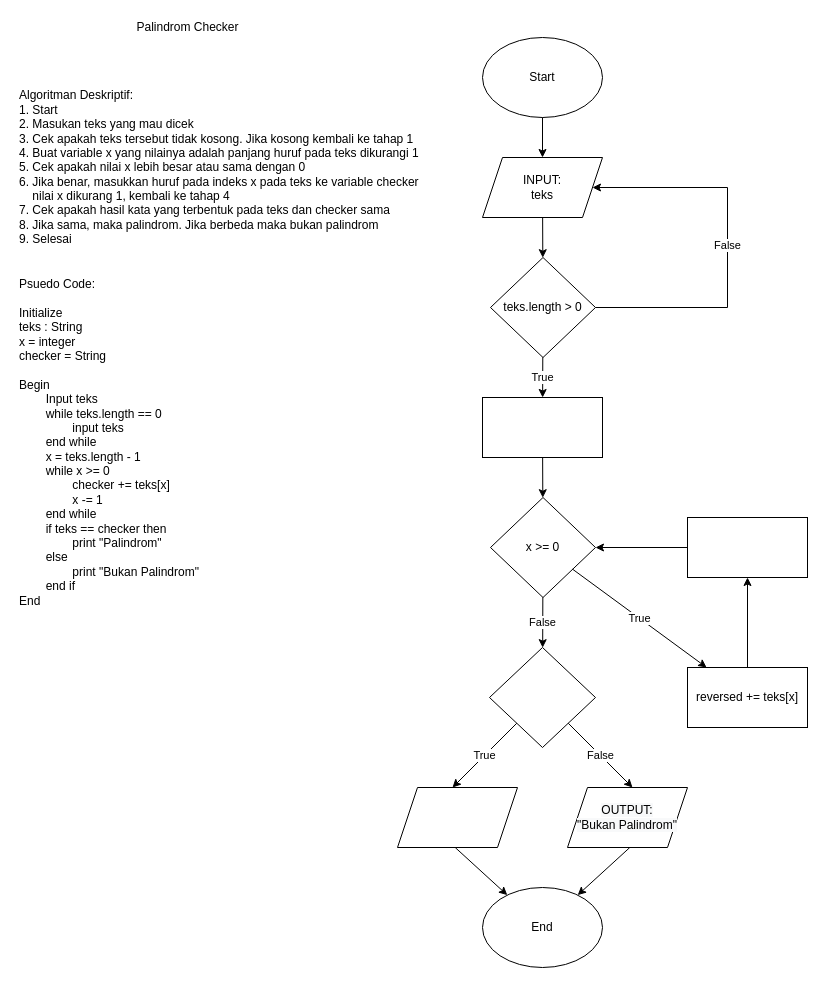
This 825x985 diagram has some shape labels left out. Each missing label, with the box of its shape:
OUTPUT: "Palindrom": (396, 786, 518, 848)
teks == reversed: (488, 646, 596, 748)
x -= 1: (686, 516, 808, 578)
x = teks.length - 1: (482, 396, 602, 458)
